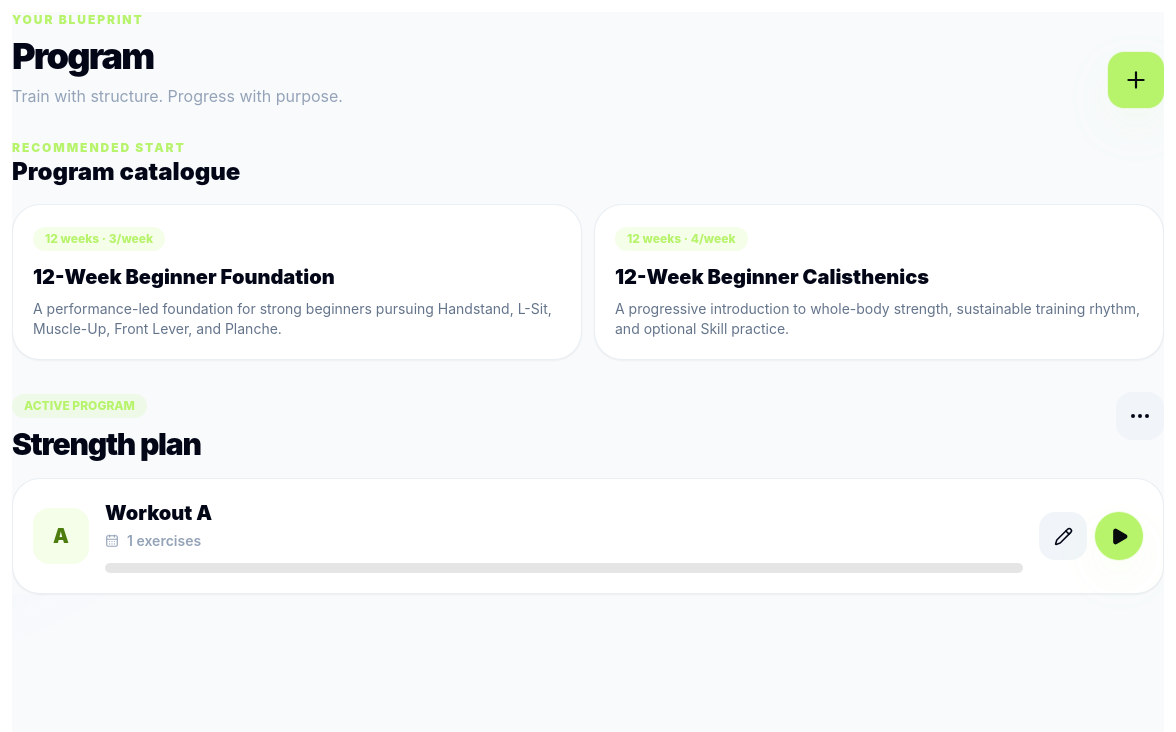
Test: program management actions › duplicates deeply with independent IDs without copying active or history state
The width and height of the screenshot is (1176, 732).
Click the button named "Program actions": (1140, 416) [1116, 392, 1164, 440]
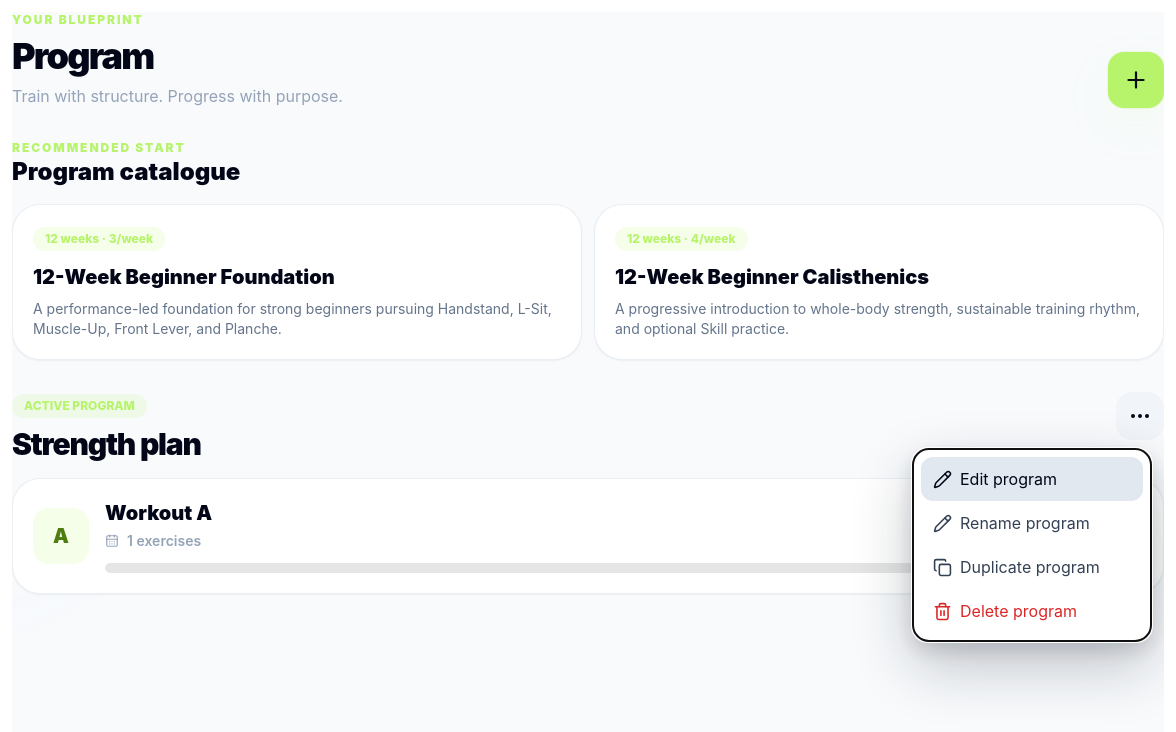
Click the menu item "Duplicate program": (1032, 567) [921, 545, 1143, 589]
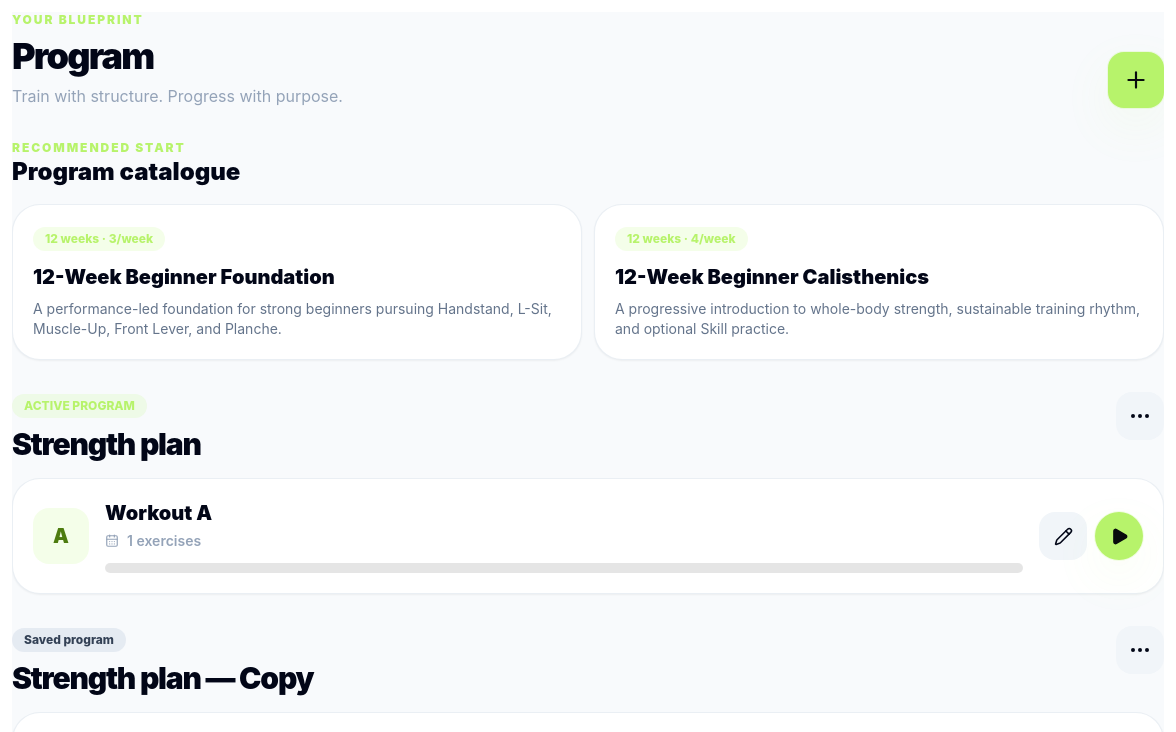
Expected: the heading "Strength plan — Copy" is shown, [12, 660, 313, 696]
